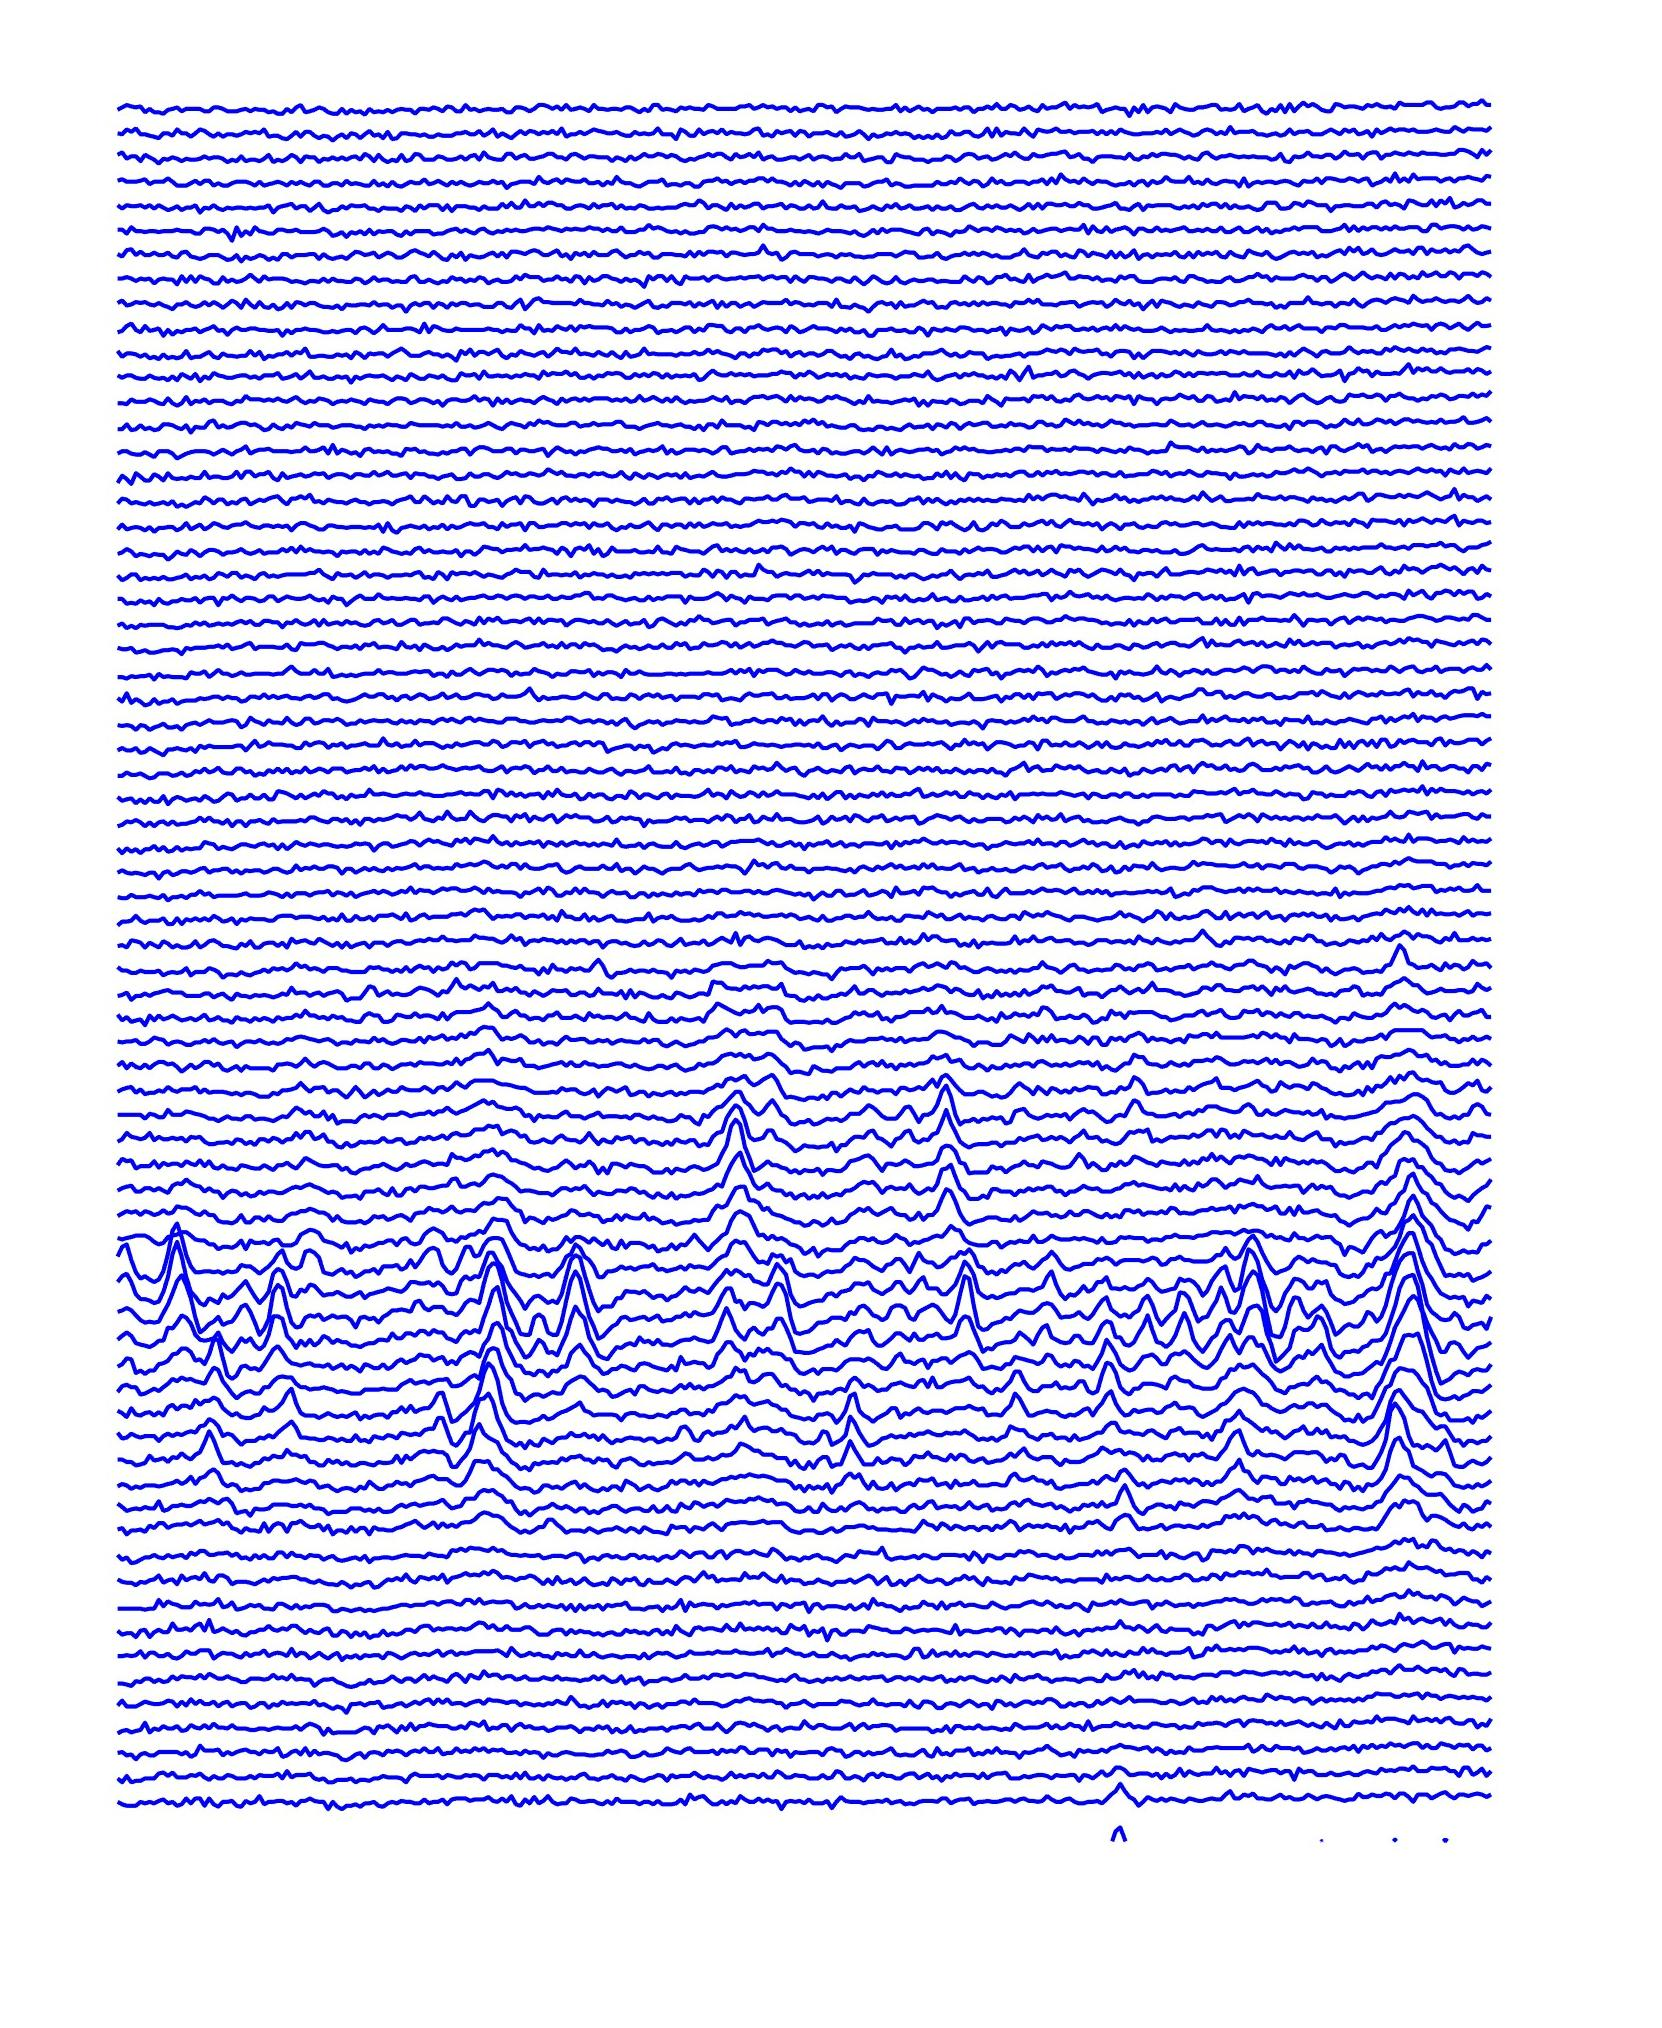defect: (1357, 1117, 1457, 1479), (706, 1083, 764, 1455), (1076, 1267, 1138, 1540), (465, 1182, 520, 1486), (1234, 1225, 1344, 1373), (189, 1324, 237, 1514), (547, 1221, 605, 1381), (802, 1361, 867, 1497), (248, 1240, 306, 1383), (926, 1054, 973, 1231), (1143, 1268, 1226, 1369), (761, 1230, 807, 1368), (1111, 1033, 1157, 1167), (945, 1240, 993, 1354), (157, 1211, 192, 1366), (1206, 1406, 1256, 1494), (995, 1358, 1032, 1455), (1031, 1231, 1059, 1358), (431, 1369, 461, 1465), (273, 1373, 312, 1442)
